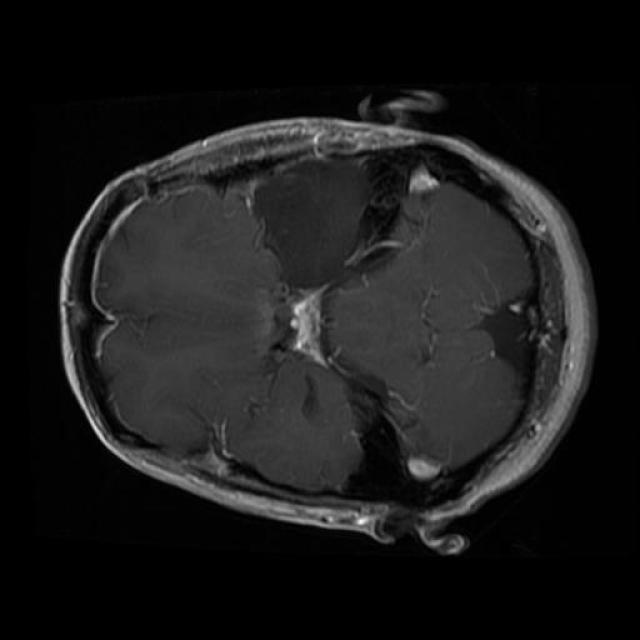Glioma: (252, 161, 371, 289)
